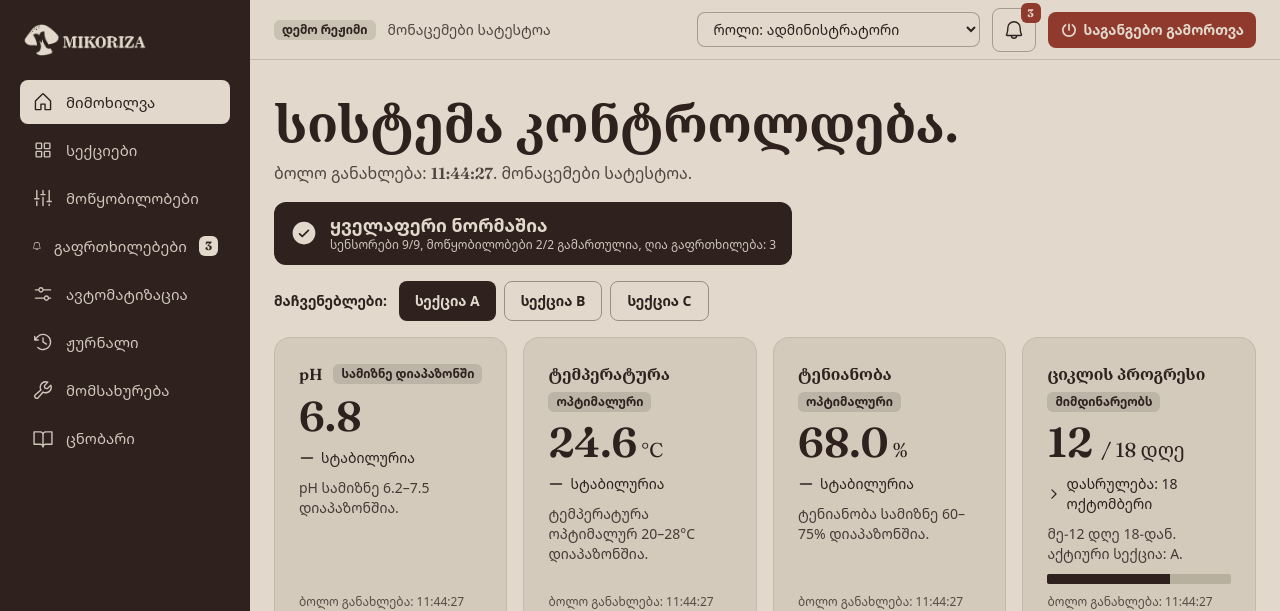
it: admin dashboard › emergency stop turns devices off and blocks control until released
The image size is (1280, 611).
Expected: the heading "სისტემა კონტროლდება." is shown, [274,92,959,156]
Click the button "საგანგებო გამორთვა": point(1152, 30) [1048,12,1256,48]
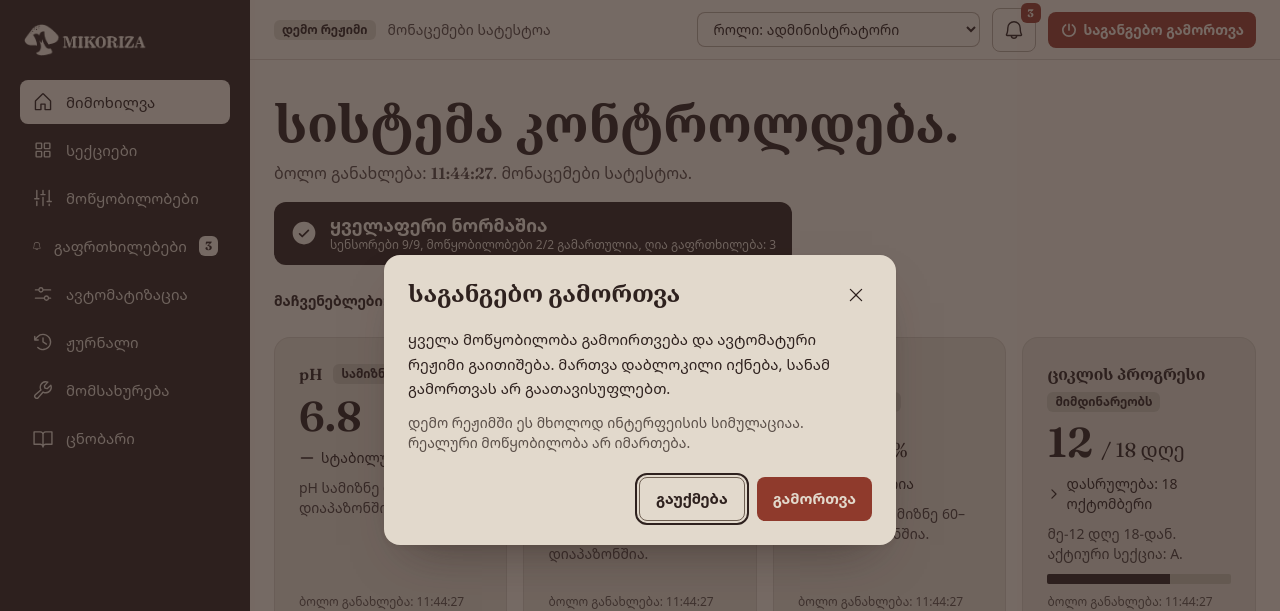
Click the button "გამორთვა": point(814, 499) [757,477,872,521]
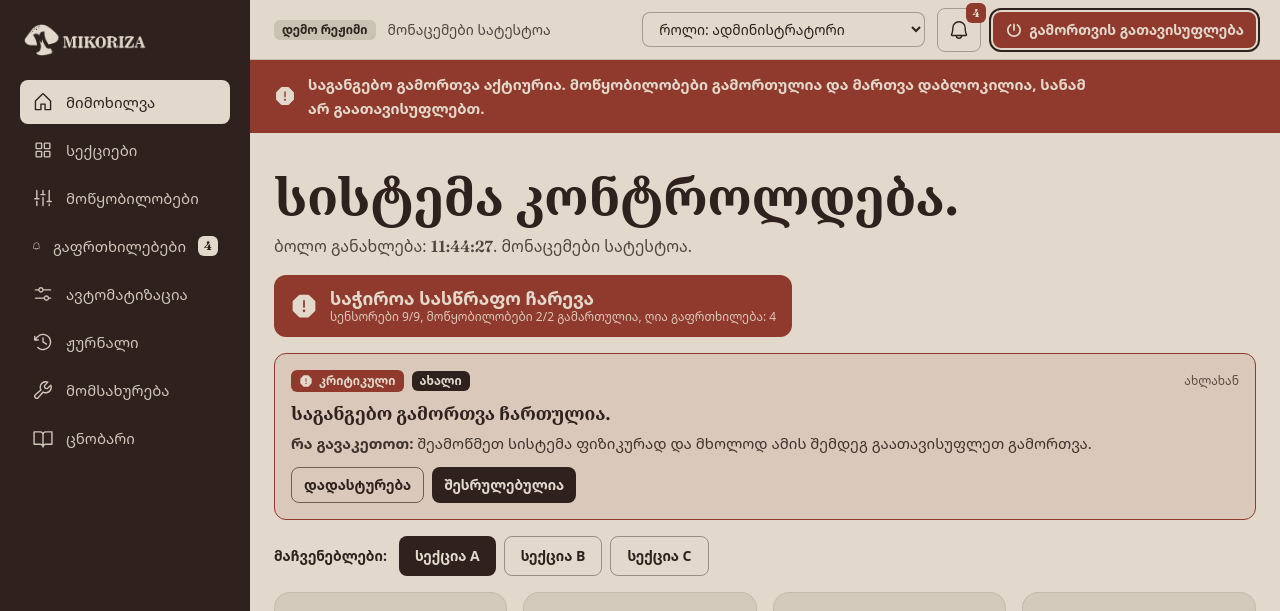
Click the button "გამორთვის გათავისუფლება": point(1125, 30) [993,12,1256,48]
(page scrolled)
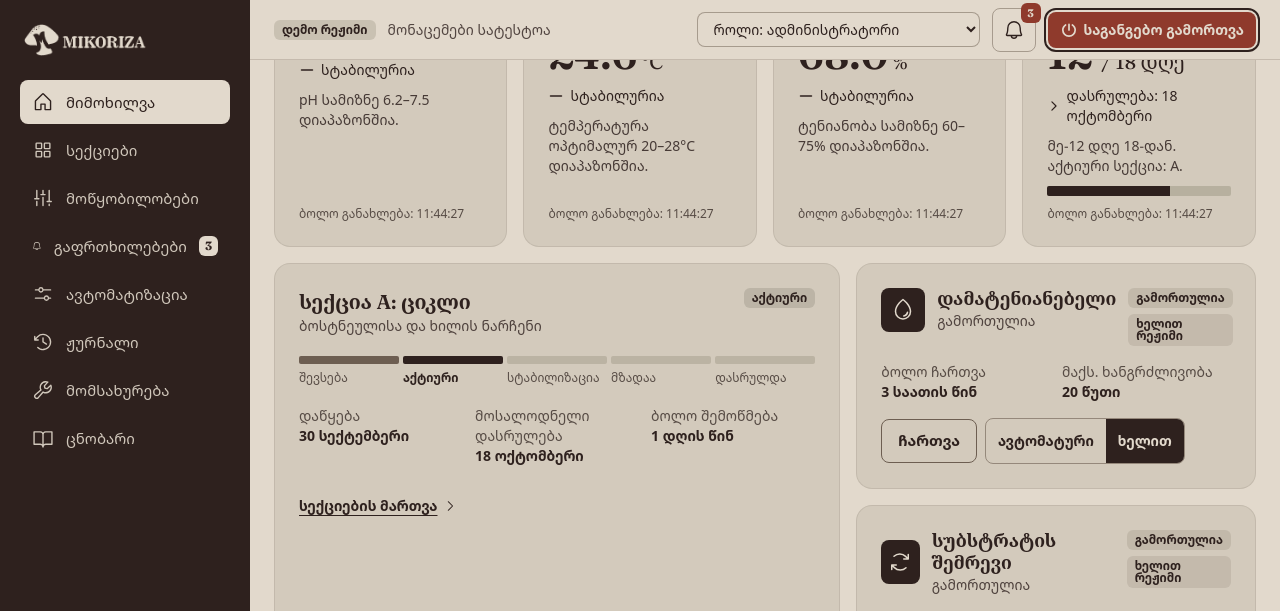
Result: the button "ჩართვა" below "3 საათის წინ" is enabled at [881,418,977,462]
